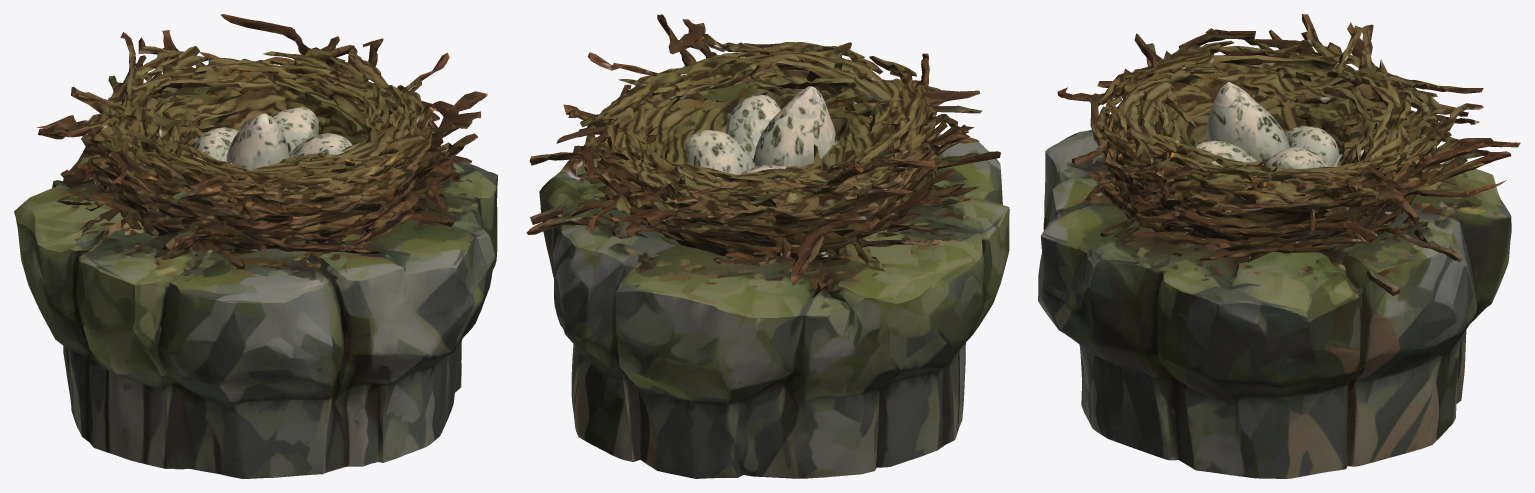
File: bird_nest.glb
3 views of the same model, side by side, from view 1: azimuth 30°, elevation 25°; view 2: azimuth 150°, elevation 25°; view 3: azimuth 270°, elevation 25° (orthographic).
Parts seen in each view (by area): view 1: bird_nest; view 2: bird_nest; view 3: bird_nest.
Part boxes in pixels (x1,y1,x2,y2): bird_nest: [14, 14, 497, 478]; bird_nest: [526, 14, 1009, 478]; bird_nest: [1038, 14, 1520, 478].
Bounding box in the file's own units: 1.2 × 0.8287 × 1.2.
Materials: 1 (1 with a texture image).
